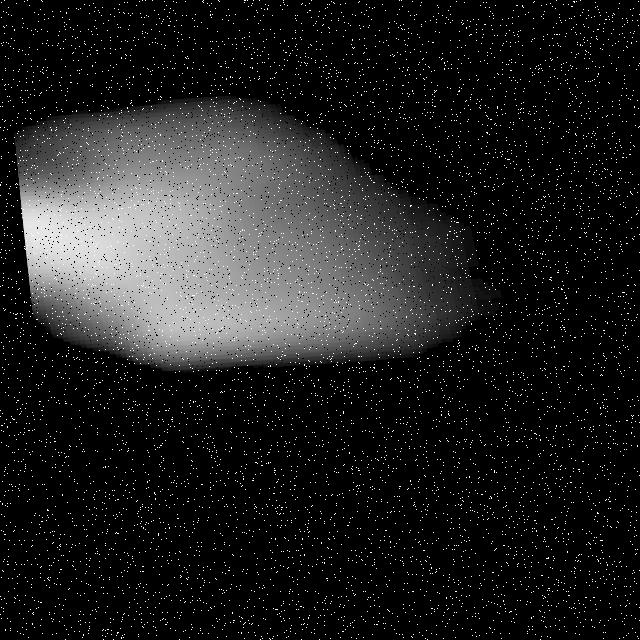person: (4, 40, 542, 397)
